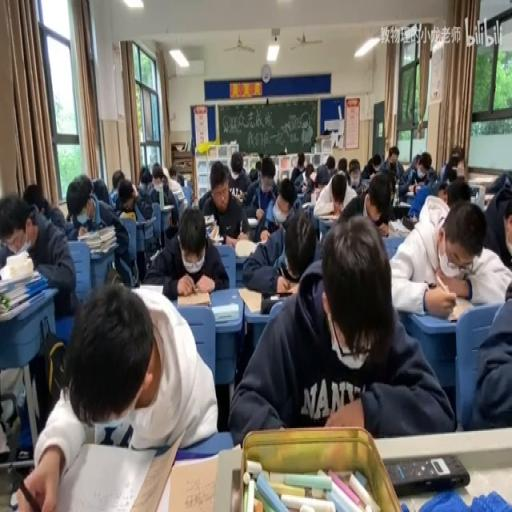calculator: (401, 307, 461, 390), (166, 452, 222, 512), (446, 297, 475, 323), (237, 286, 262, 314), (177, 288, 211, 306), (382, 233, 405, 259), (212, 300, 238, 322), (234, 238, 258, 258), (389, 218, 411, 236), (206, 223, 222, 243), (314, 209, 340, 221), (141, 282, 165, 294), (136, 215, 154, 226), (176, 192, 186, 210), (120, 209, 136, 219), (202, 213, 214, 225), (295, 192, 305, 205), (300, 199, 314, 208), (246, 214, 258, 224), (484, 194, 494, 206), (360, 176, 370, 188), (149, 248, 158, 260), (160, 204, 173, 210), (406, 186, 414, 195)
paper: (228, 215, 450, 442), (18, 279, 216, 509), (1, 190, 77, 322), (144, 205, 227, 297), (70, 174, 134, 288), (465, 281, 512, 432), (336, 172, 394, 230), (242, 158, 281, 235), (481, 173, 512, 268), (149, 164, 181, 226), (398, 150, 432, 196), (226, 151, 250, 199), (378, 144, 402, 180), (445, 179, 470, 208), (330, 171, 348, 206), (290, 150, 306, 188), (117, 183, 137, 212), (22, 181, 42, 209), (360, 154, 381, 180), (92, 176, 110, 205), (312, 174, 328, 196), (138, 166, 151, 190), (111, 168, 125, 189), (442, 166, 457, 185), (450, 146, 464, 165), (302, 174, 314, 194), (337, 156, 347, 174), (168, 165, 178, 181), (152, 174, 162, 189), (325, 154, 334, 170), (161, 164, 170, 180), (248, 168, 258, 182), (110, 189, 118, 206), (254, 158, 262, 171), (176, 174, 183, 186), (413, 154, 419, 168)
person: (386, 452, 470, 494), (260, 292, 294, 314), (393, 203, 410, 219)
